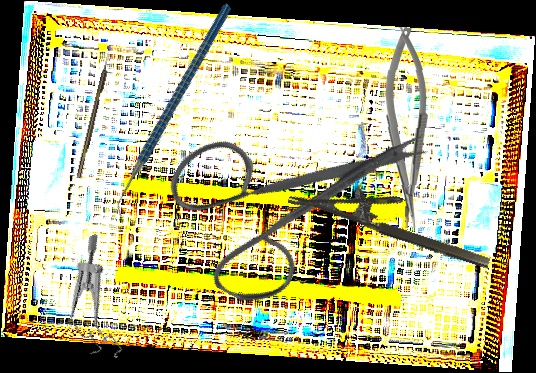Chopper: (59, 2, 290, 225)
Hook Surgical: (75, 51, 113, 179)
Iris Scissors: (136, 38, 435, 346)
Needle Holder: (287, 163, 500, 271), (382, 27, 430, 228)
Speculum: (36, 232, 159, 370)
